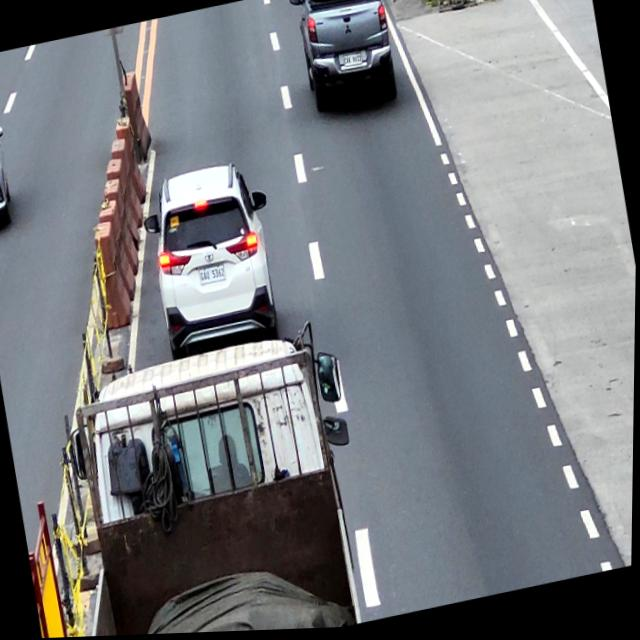Car: (136, 156, 292, 366), (285, 0, 404, 123), (0, 87, 21, 232)
License-Plate: (199, 266, 227, 287), (343, 55, 363, 70)
Truck: (37, 322, 383, 639)
